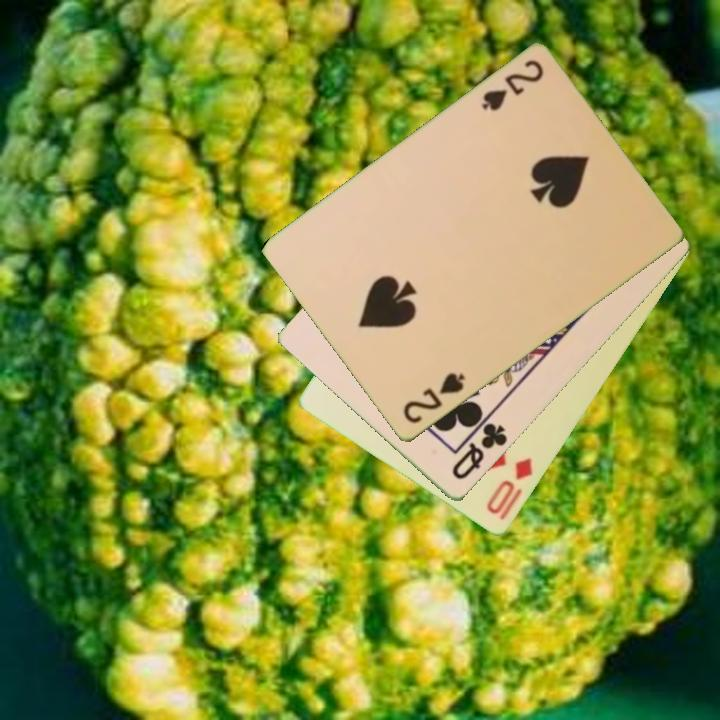10d: (483, 454, 536, 524)
2s: (399, 369, 468, 428), (478, 56, 547, 115)
Qc: (448, 412, 511, 484)
